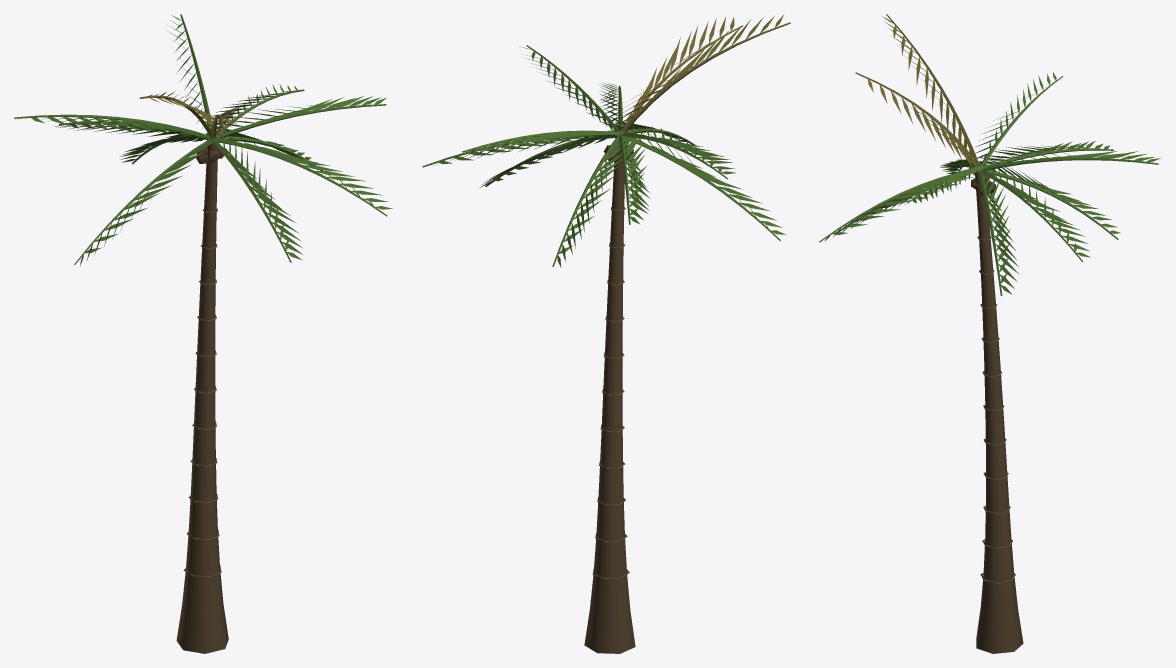
Rendered from palm_tree_c.glb.
The picture shows the model from 3 angles, left to right: view 1: azimuth 30°, elevation 25°; view 2: azimuth 150°, elevation 25°; view 3: azimuth 270°, elevation 25°; orthographic projection. The views are drawn at different scales.
Visible parts, largest first — view 1: PalmTrunk, PalmCrown, PalmTree, PalmCrownDry; view 2: PalmTrunk, PalmCrown, PalmCrownDry, PalmTree; view 3: PalmTrunk, PalmCrown, PalmCrownDry, PalmTree.
Part boxes in pixels (box(x1,y1,x2,y2)): PalmTrunk: box(176, 143, 228, 653); PalmCrown: box(14, 14, 393, 266); PalmTree: box(183, 146, 224, 577); PalmCrownDry: box(139, 91, 241, 138); PalmTrunk: box(584, 137, 635, 653); PalmCrown: box(422, 45, 786, 267); PalmCrownDry: box(614, 15, 790, 132); PalmTree: box(592, 144, 633, 579); PalmTrunk: box(975, 172, 1023, 653); PalmCrown: box(819, 72, 1161, 295); PalmCrownDry: box(855, 14, 981, 173); PalmTree: box(971, 176, 1015, 583).
Size of the model in its own units: 5.38 by 10.48 by 5.64.
